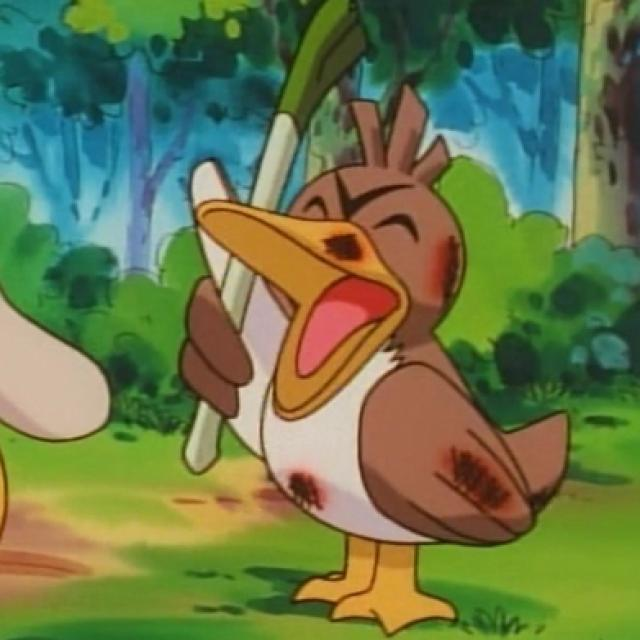Farfetchd: (178, 90, 542, 544)
